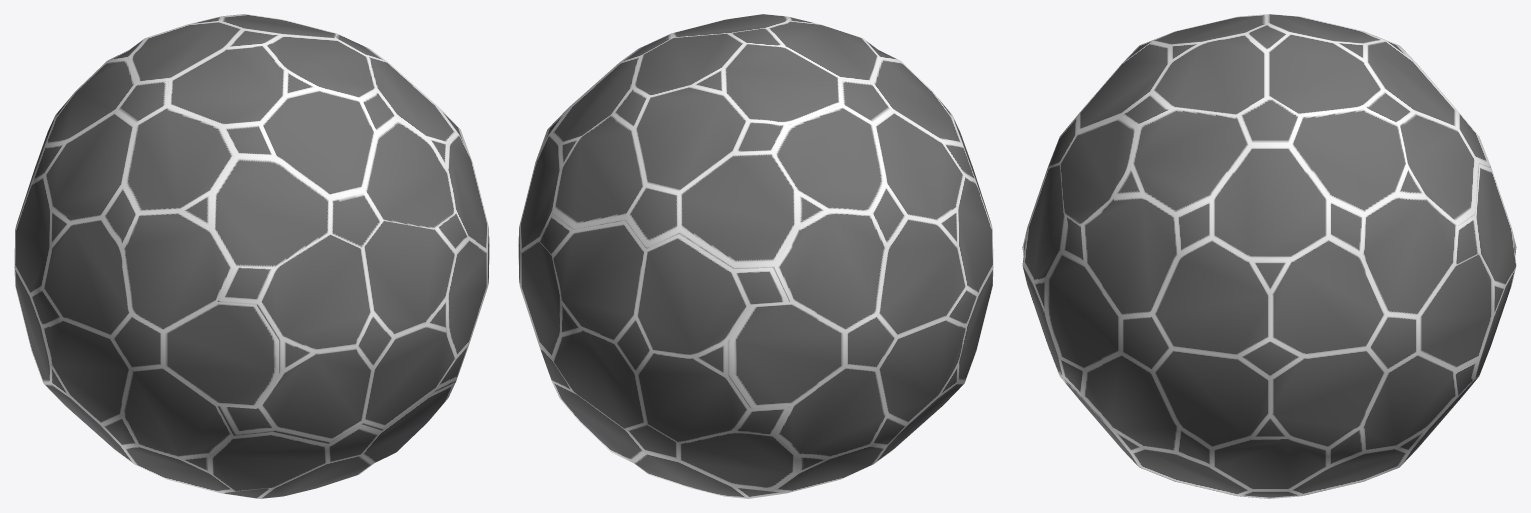
Rendered from Shield.fbx.
3 renders of one model, left to right at view 1: azimuth 30°, elevation 25°; view 2: azimuth 150°, elevation 25°; view 3: azimuth 270°, elevation 25°, orthographic.
Parts seen in each view (by area): view 1: pSolid1; view 2: pSolid1; view 3: pSolid1.
Part boxes in pixels (bbox=[...]): pSolid1: bbox=[14, 14, 489, 498]; pSolid1: bbox=[518, 14, 993, 498]; pSolid1: bbox=[1022, 14, 1516, 498].
Size of the model in its own units: 16.53 by 16.53 by 16.53.
Materials: 1 (1 with a texture image).
